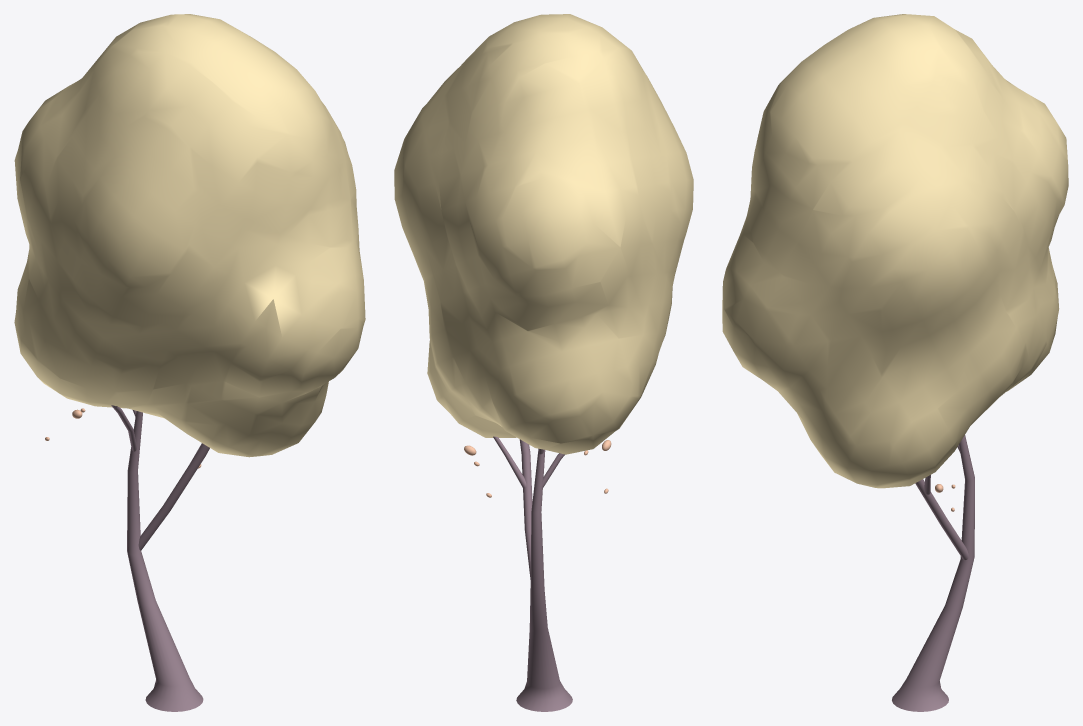
Rendered from Cartoon_Trees_Tree_2.glb.
The picture shows the model from 3 angles, left to right: view 1: azimuth 30°, elevation 25°; view 2: azimuth 150°, elevation 25°; view 3: azimuth 270°, elevation 25°; orthographic projection. The views are drawn at different scales.
Parts seen in each view (by area): view 1: Spheres_2, Wood_5, Stick_6; view 2: Spheres_2, Wood_5, Stick_6; view 3: Spheres_2, Wood_5, Stick_6.
Part boxes in pixels (x1=…): Spheres_2: x1=14, y1=14, x2=365, y2=457; Wood_5: x1=127, y1=411, x2=203, y2=711; Stick_6: x1=138, y1=443, x2=209, y2=550; Spheres_2: x1=394, y1=14, x2=693, y2=454; Wood_5: x1=516, y1=449, x2=572, y2=711; Stick_6: x1=519, y1=439, x2=532, y2=579; Spheres_2: x1=722, y1=14, x2=1068, y2=488; Wood_5: x1=892, y1=435, x2=974, y2=711; Stick_6: x1=915, y1=479, x2=968, y2=559.
Bounding box in the file's own units: 41.09 × 97.87 × 45.33.
